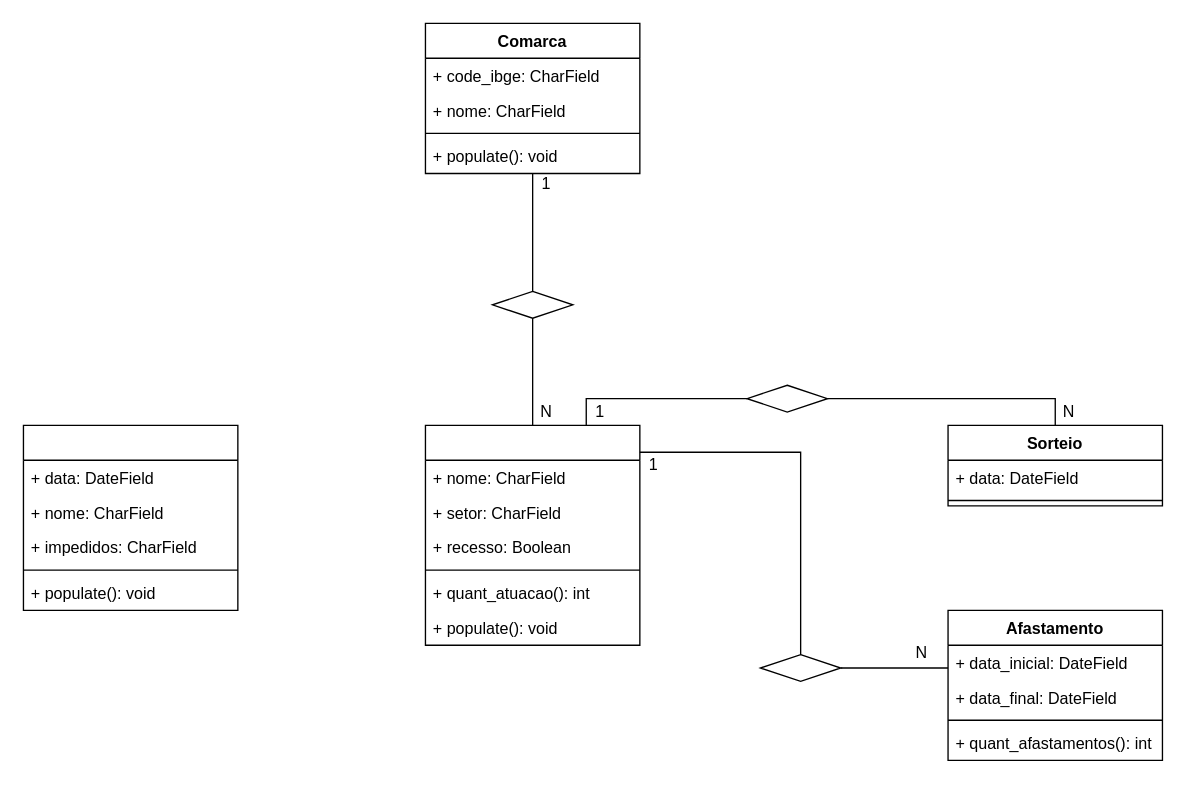
Image size: 1186x788. Some labels were removed from this diagram. The shapes that lost their labels are listed below. From the top down, each one's box as (x1, y1, x2, y2) in pixels, then its label:
(22, 424, 238, 610): Feriado
(424, 424, 640, 645): Defensor
